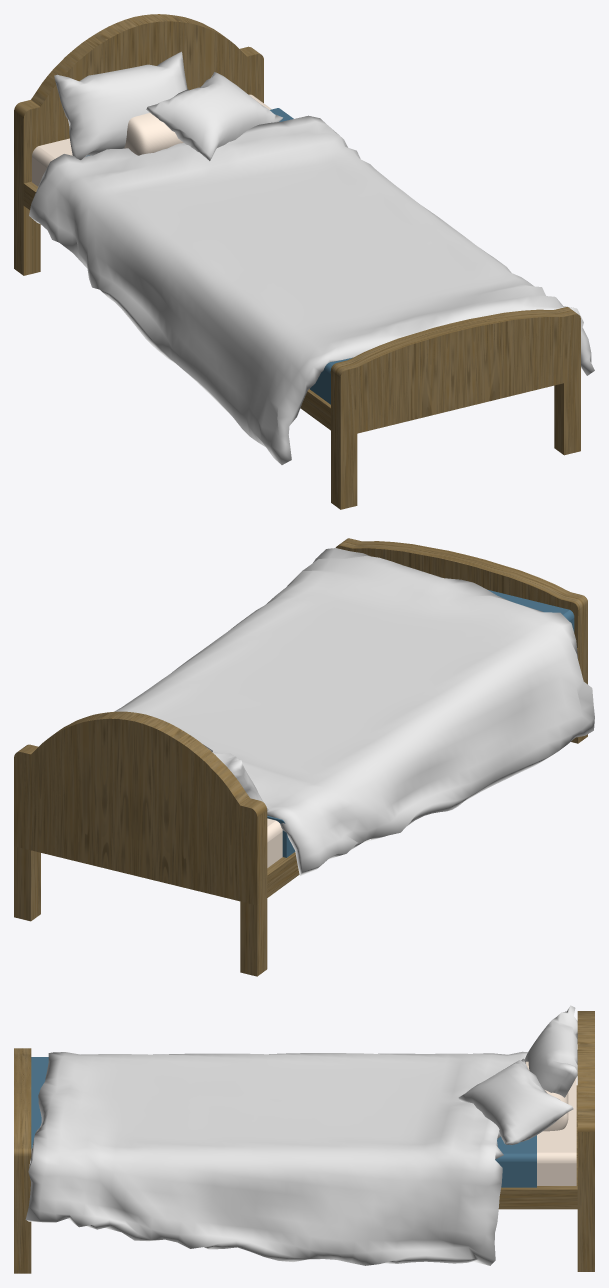
Rendered from bed_UV.fbx.
3 renders of one model, top to bottom at view 1: azimuth 30°, elevation 25°; view 2: azimuth 150°, elevation 25°; view 3: azimuth 270°, elevation 25°, orthographic. The views are drawn at different scales.
Parts seen in each view (by area): view 1: Duvet, Bedframe, Pillow1, Pillow2, pillow, mattress, sheet; view 2: Duvet, Bedframe, sheet, Pillow1, mattress; view 3: Duvet, Bedframe, Pillow2, Pillow1, sheet, mattress, pillow.
Boxes of the visible parts, box(x1,y1,x2,y2) form: Duvet: box(29, 115, 594, 464); Bedframe: box(14, 14, 580, 509); Pillow1: box(54, 51, 187, 159); Pillow2: box(146, 72, 282, 160); pillow: box(124, 113, 183, 155); mattress: box(32, 94, 271, 186); sheet: box(86, 108, 352, 404); Duvet: box(115, 548, 594, 875); Bedframe: box(14, 538, 587, 976); sheet: box(267, 589, 574, 857); Pillow1: box(212, 752, 268, 810); mattress: box(267, 818, 282, 867); Duvet: box(25, 1051, 527, 1265); Bedframe: box(14, 1011, 594, 1273); Pillow2: box(458, 1058, 573, 1145); Pillow1: box(524, 1005, 577, 1097); sheet: box(31, 1057, 536, 1187); mattress: box(537, 1077, 576, 1185); pillow: box(525, 1061, 568, 1131).
Bounding box in the file's own units: 1.2 × 0.8165 × 2.15.
